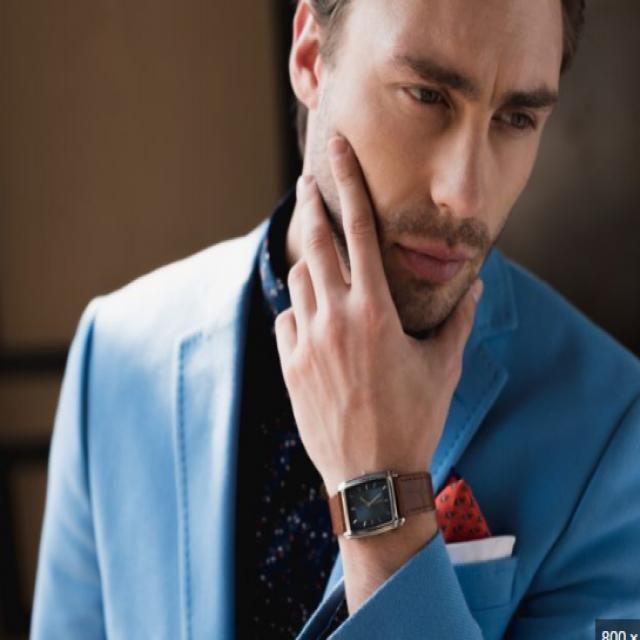Watch: (326, 469, 434, 535)
